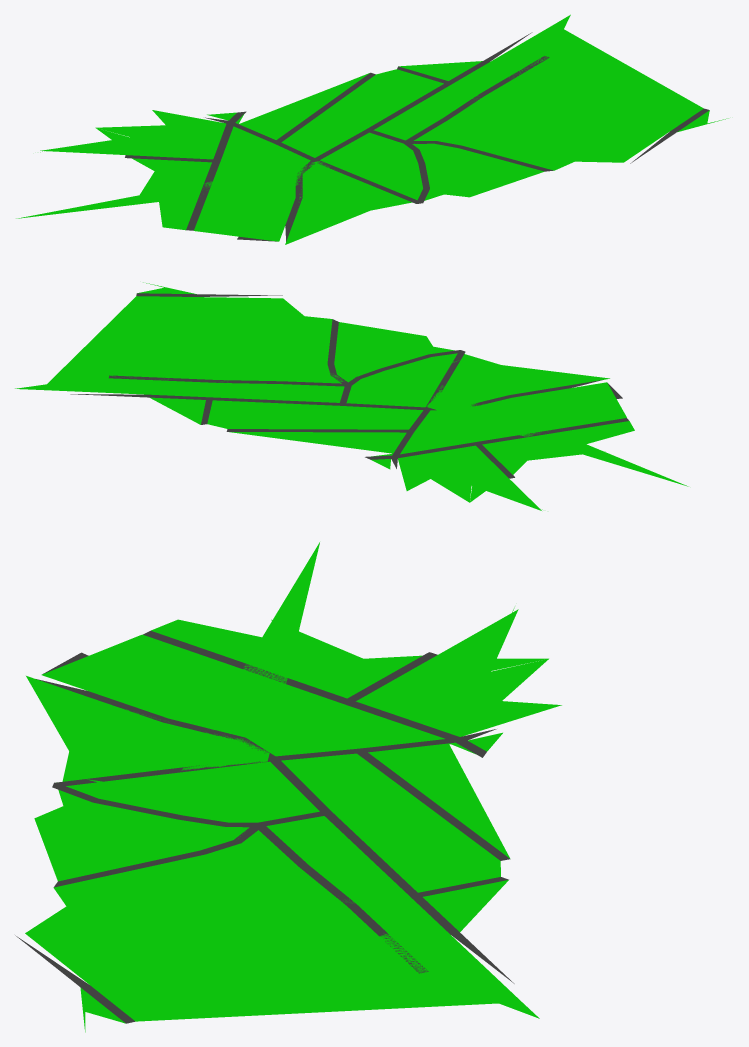
3 renders of one model, top to bottom at view 1: azimuth 30°, elevation 25°; view 2: azimuth 150°, elevation 25°; view 3: azimuth 270°, elevation 25°, orthographic. The views are drawn at different scales.
Bounding box in the file's own units: 376 × 0.001 × 233.
